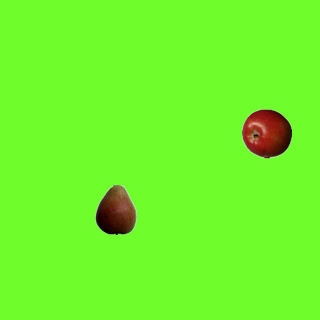Apple Braeburn: (241, 108, 291, 158)
Pear Forelle: (90, 184, 140, 234)
